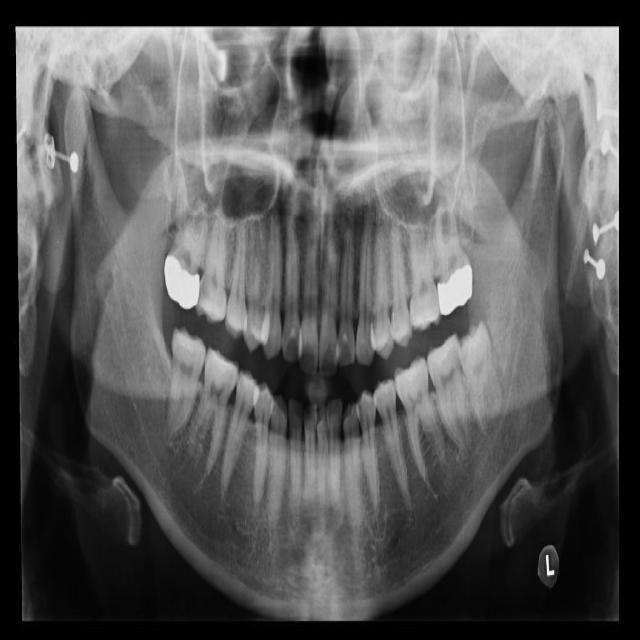52: (423, 251, 492, 322), (164, 247, 200, 310)
BioHorizons Implant: (429, 181, 476, 316)
Biomet 3i Implant: (452, 320, 509, 432)
Blue Sky Bio Implant: (424, 331, 471, 454)
Caries: (159, 177, 215, 311)
Implant: (168, 325, 207, 442)
